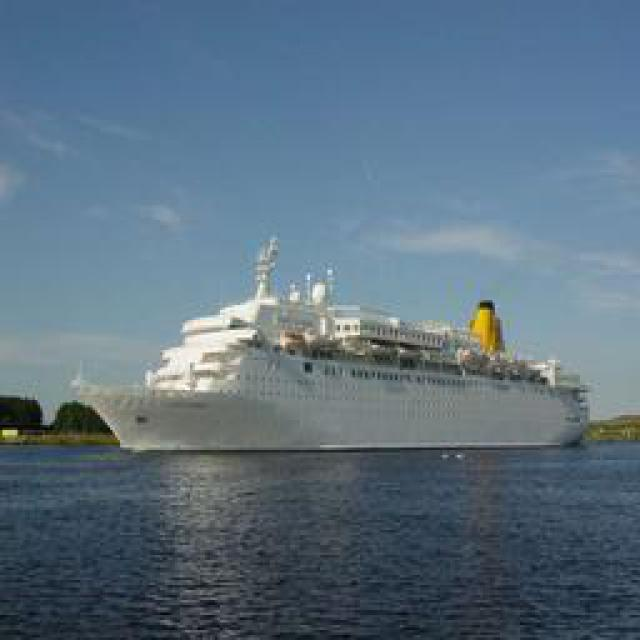Ship: (60, 240, 590, 453)
